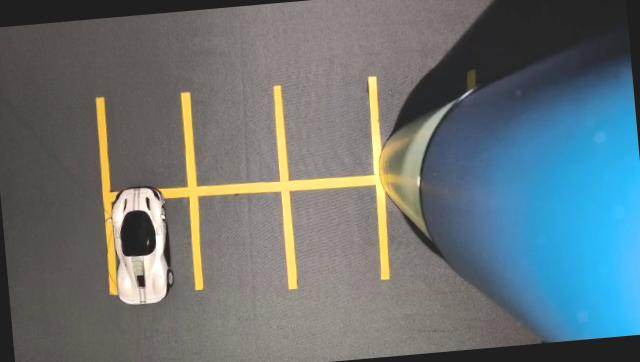toy_car: (81, 150, 195, 309)
